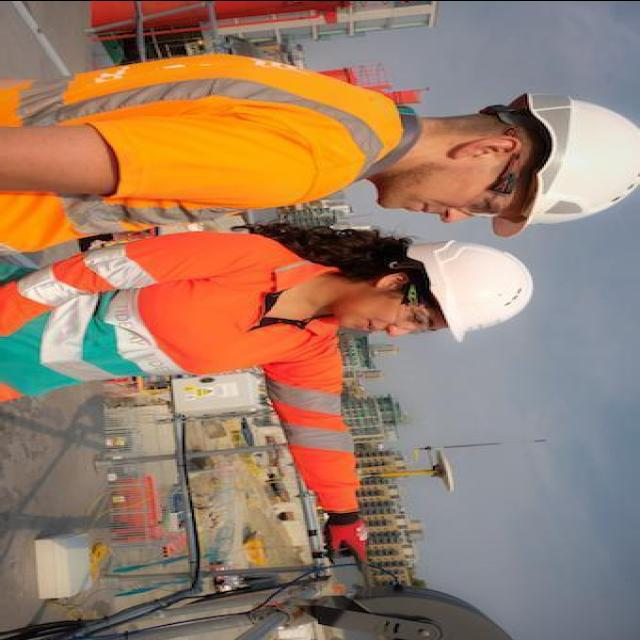helmet: (496, 69, 640, 237), (416, 236, 544, 346)
